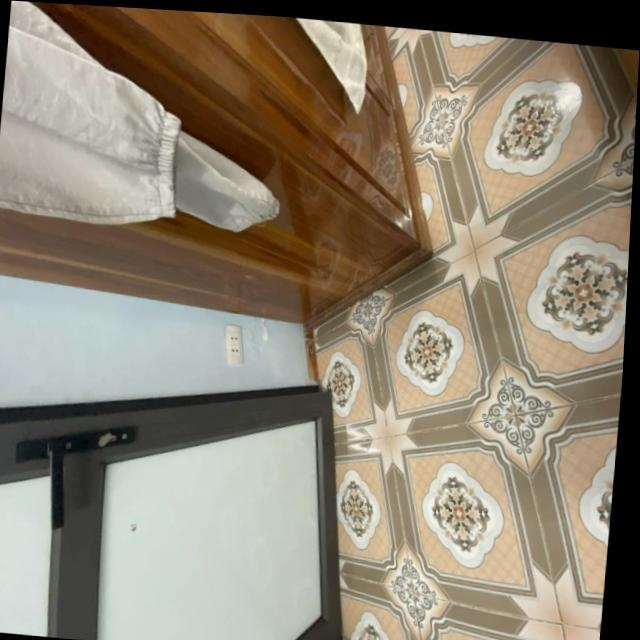outlet: (221, 323, 246, 365)
